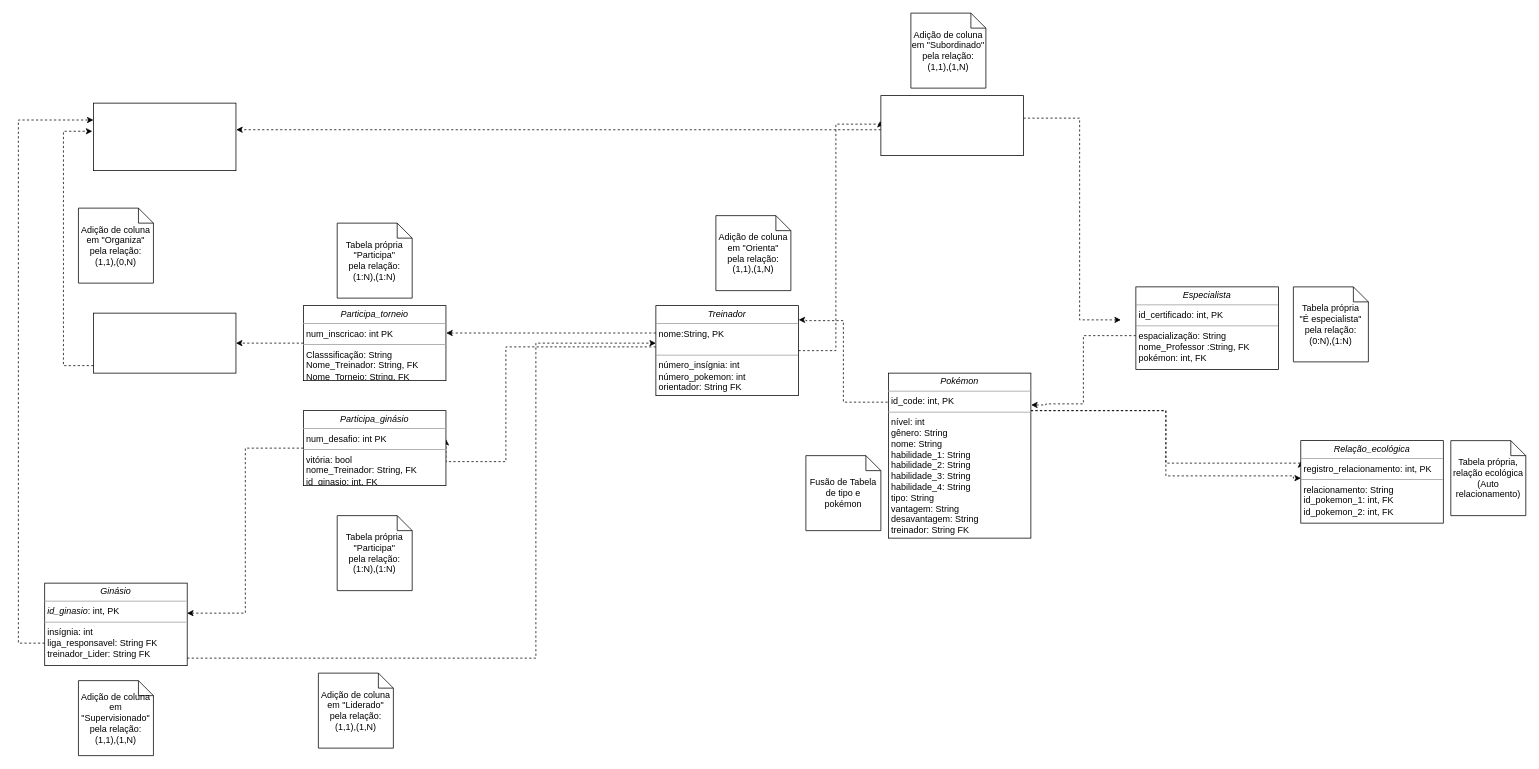
The diagram is 1539 pixels wide and 769 high, and some of its shapes have lost their labels. The centre of each missing label's shape, as x and y in pixels:
Liga nome:String, PK região: String: point 164,136
Professor nome:String, PK ligar_Responsável: String FK: point 951,125
Torneio nome:String, PK liga_Organizadora: String FK: point 164,342
